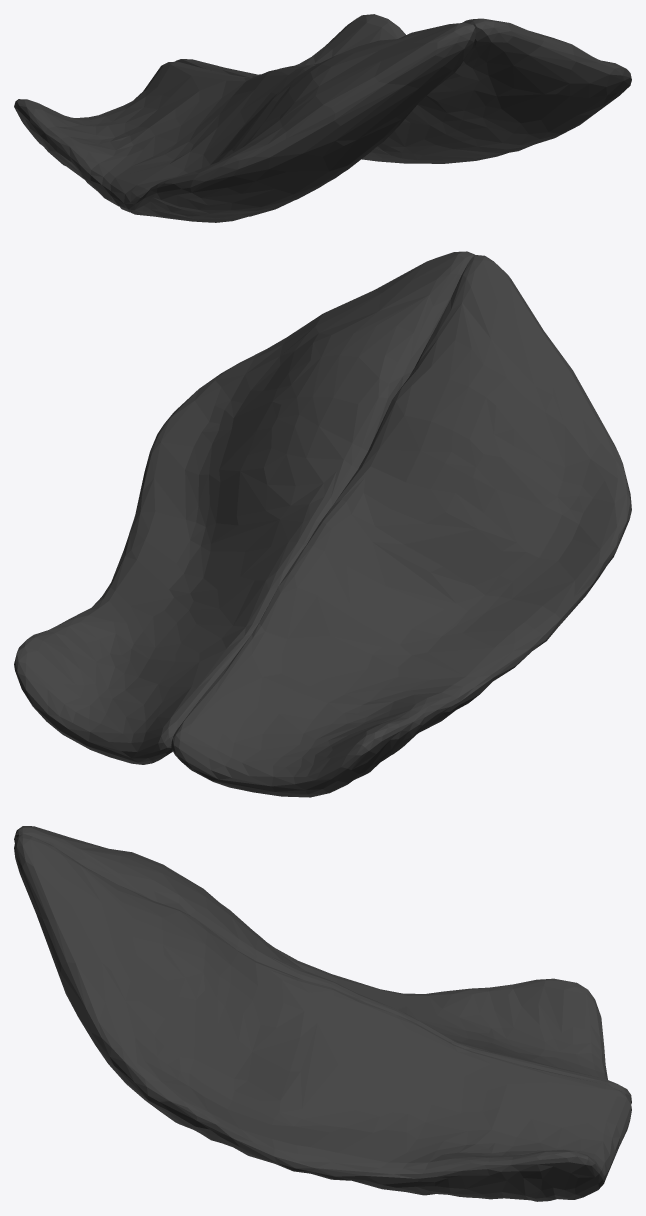
The model's file is m_superficial_pectoralis_transverse.glb.
The picture shows the model from 3 angles, top to bottom: view 1: azimuth 30°, elevation 25°; view 2: azimuth 150°, elevation 25°; view 3: azimuth 270°, elevation 25°; orthographic projection.
Visible parts, largest first — view 1: m_superficial_pectoralis_transverse; view 2: m_superficial_pectoralis_transverse; view 3: m_superficial_pectoralis_transverse.
Boxes of the visible parts, left/top/right/bottom form: m_superficial_pectoralis_transverse: left=14, top=14, right=631, bottom=222; m_superficial_pectoralis_transverse: left=14, top=251, right=631, bottom=797; m_superficial_pectoralis_transverse: left=14, top=826, right=631, bottom=1201.
Size of the model in its own units: 0.00331 by 0.00217 by 0.00387.
Materials: 1 (1 with a texture image).
